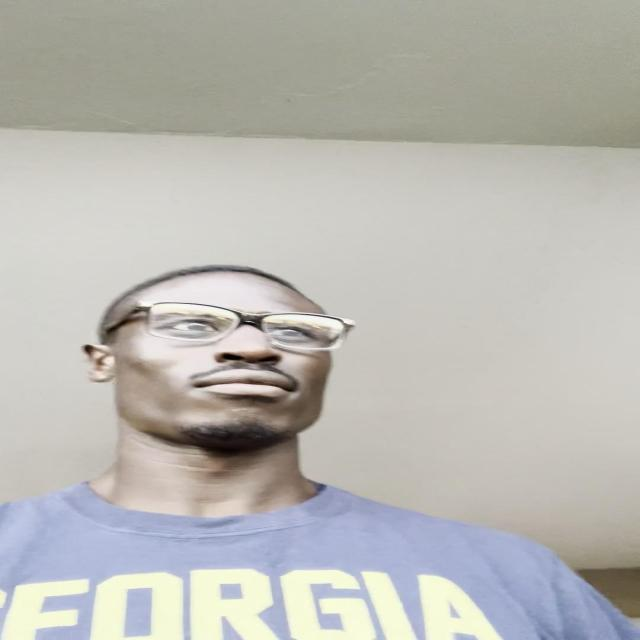NO-Mask: (87, 268, 350, 465)
